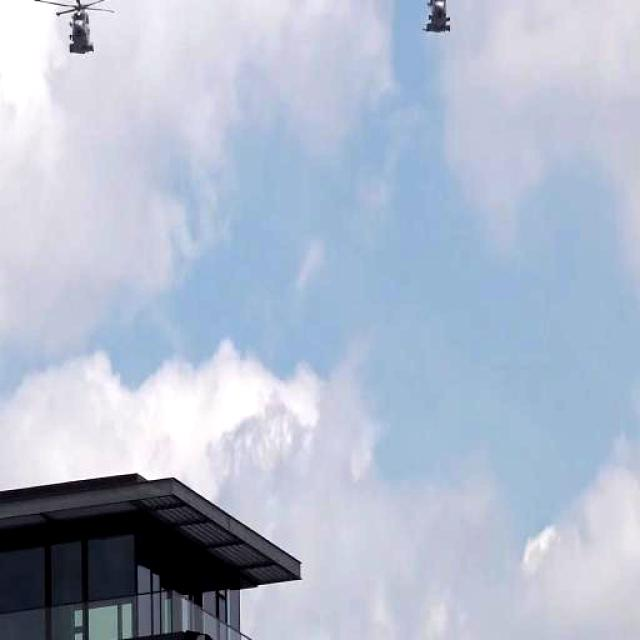drone: (36, 0, 135, 65), (389, 0, 481, 35)
